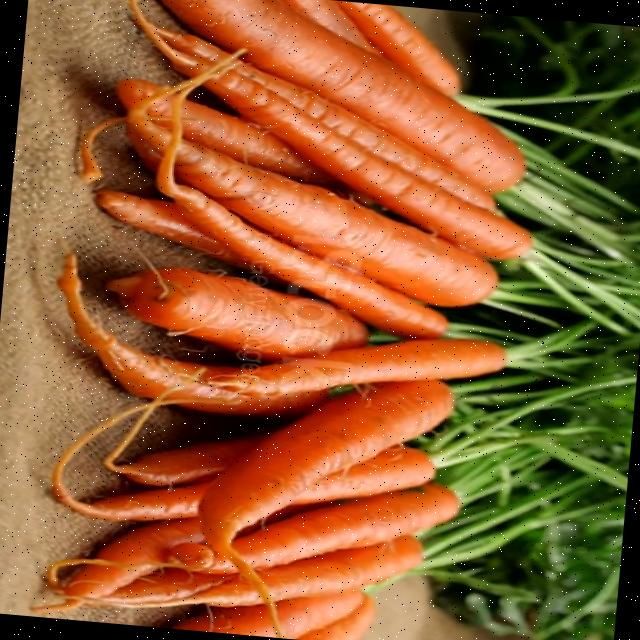carrot: (169, 49, 531, 259), (161, 0, 523, 192), (128, 118, 495, 306), (157, 34, 494, 210), (197, 381, 453, 556), (173, 184, 447, 339), (58, 288, 322, 417), (166, 483, 457, 574), (111, 77, 342, 185), (106, 267, 367, 359), (178, 536, 419, 606), (205, 339, 505, 395), (96, 189, 247, 267), (336, 3, 458, 96), (62, 516, 203, 596), (161, 591, 361, 638), (292, 447, 433, 505), (108, 436, 264, 484), (51, 483, 208, 521), (282, 0, 379, 53), (298, 596, 374, 640)
